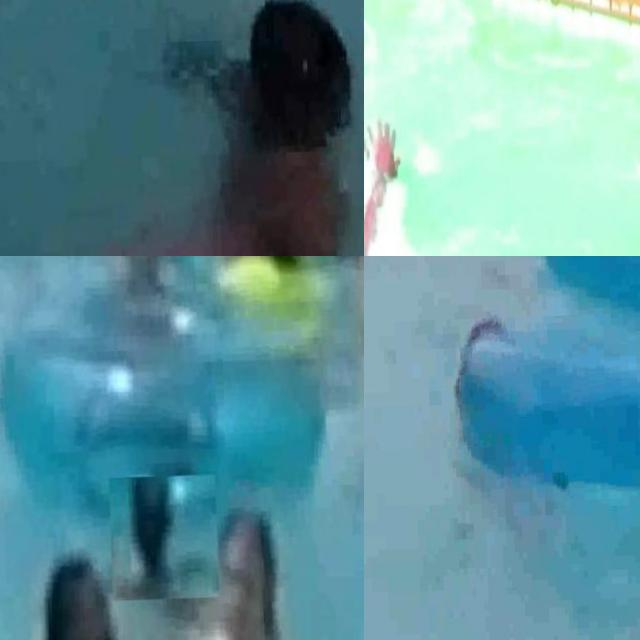drowning: (138, 16, 364, 256), (418, 280, 526, 529), (108, 474, 218, 602)
swimming: (62, 256, 286, 440), (178, 511, 292, 640), (10, 552, 139, 640), (193, 256, 353, 310), (364, 79, 390, 207)
